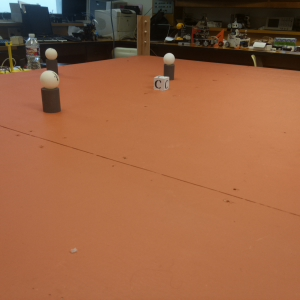blockC: (155, 75, 170, 91)
corner: (136, 16, 151, 57)
obstacle: (41, 72, 60, 112), (163, 53, 175, 79), (45, 48, 57, 69)
